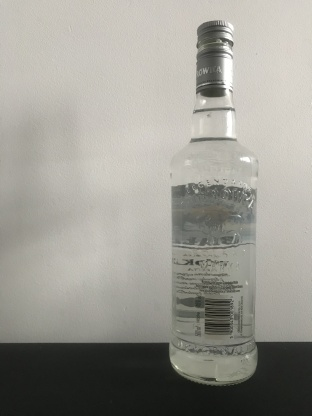nakretka: (195, 18, 235, 97)
